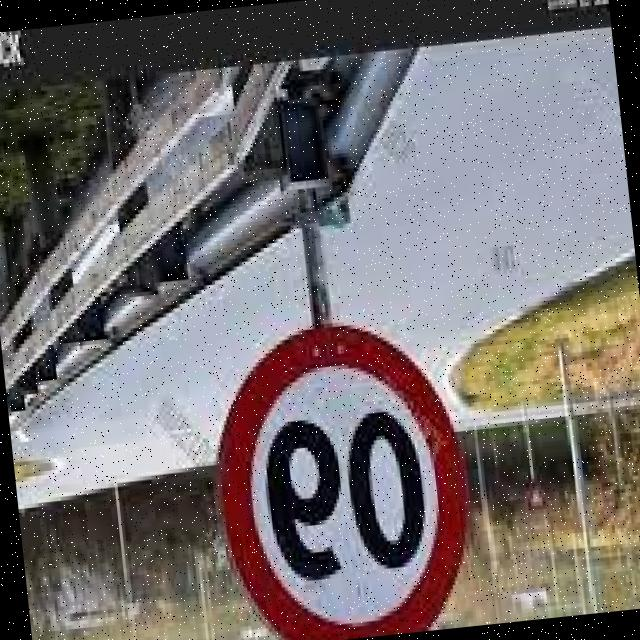speed_limit_60: (202, 310, 485, 640)
